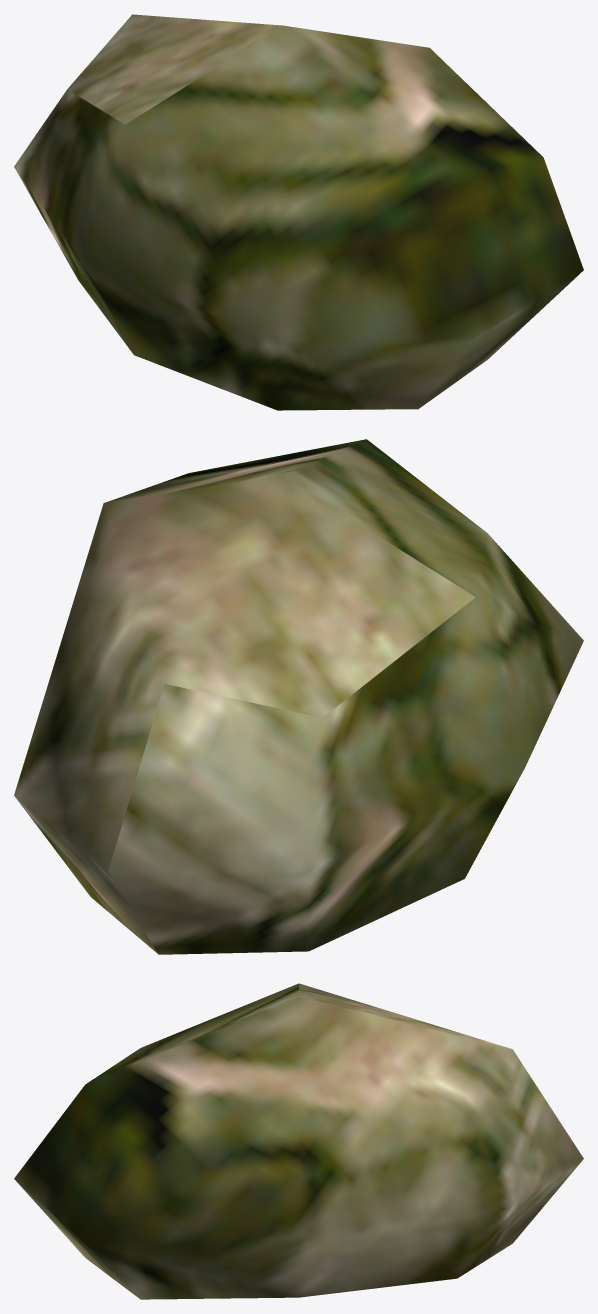
File: shamo_wujian_shitou1.fbx
3 views of the same model, one above another, from view 1: azimuth 30°, elevation 25°; view 2: azimuth 150°, elevation 25°; view 3: azimuth 270°, elevation 25° (orthographic). The views are drawn at different scales.
Visible parts, largest first — view 1: pCube58; view 2: pCube58; view 3: pCube58.
Boxes of the visible parts, x1,y1,x2,y2 form: pCube58: (14,14,583,410); pCube58: (14,439,583,954); pCube58: (14,983,583,1299).
Size of the model in its own units: 2.62 by 1.98 by 4.
